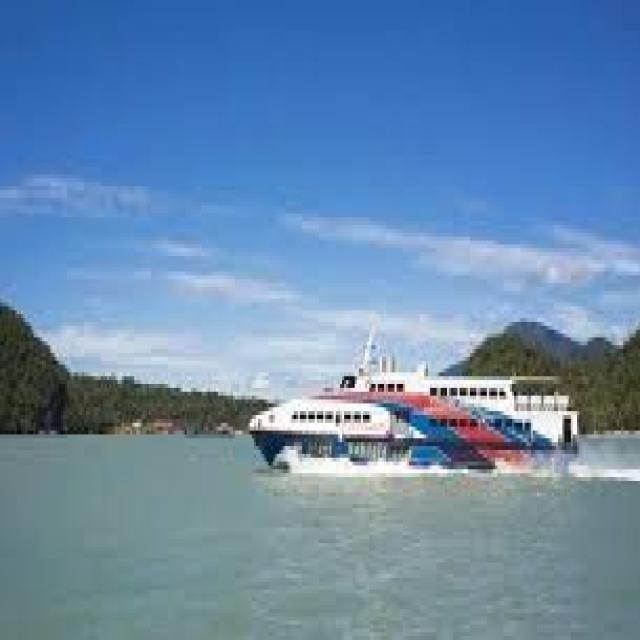passenger ship: (244, 331, 586, 462)
